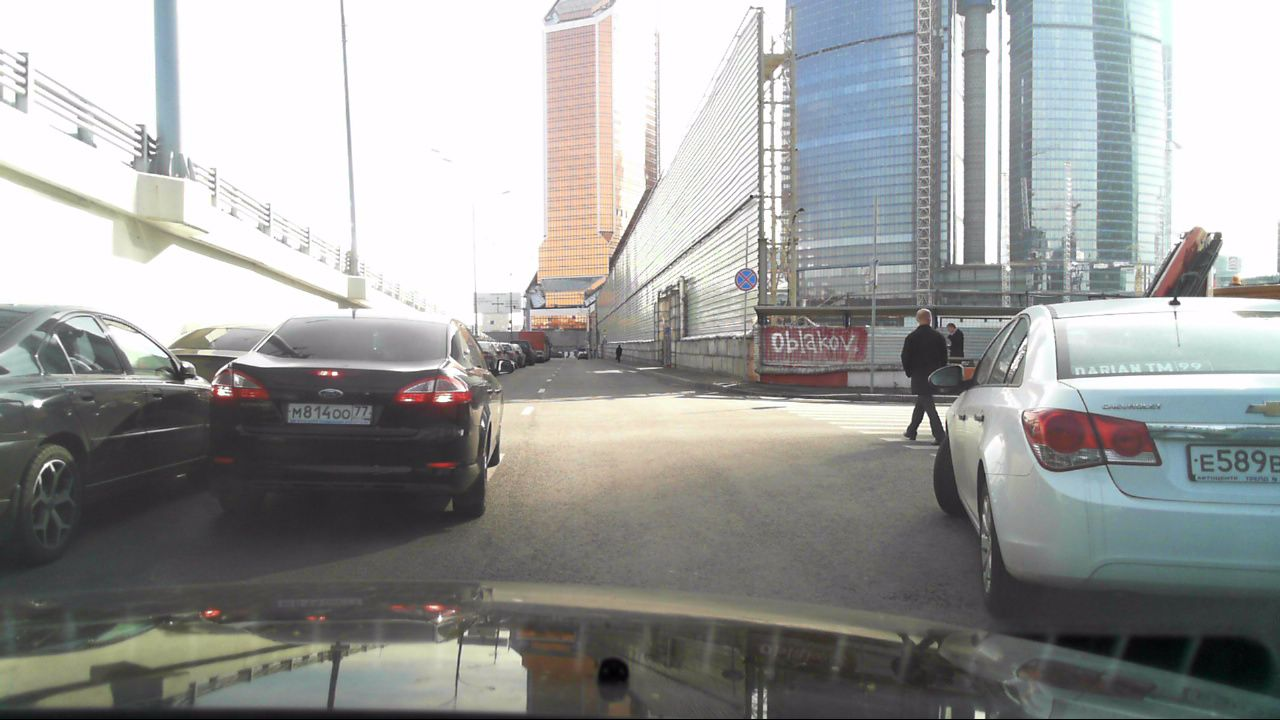No Parking: (734, 267, 759, 293)
